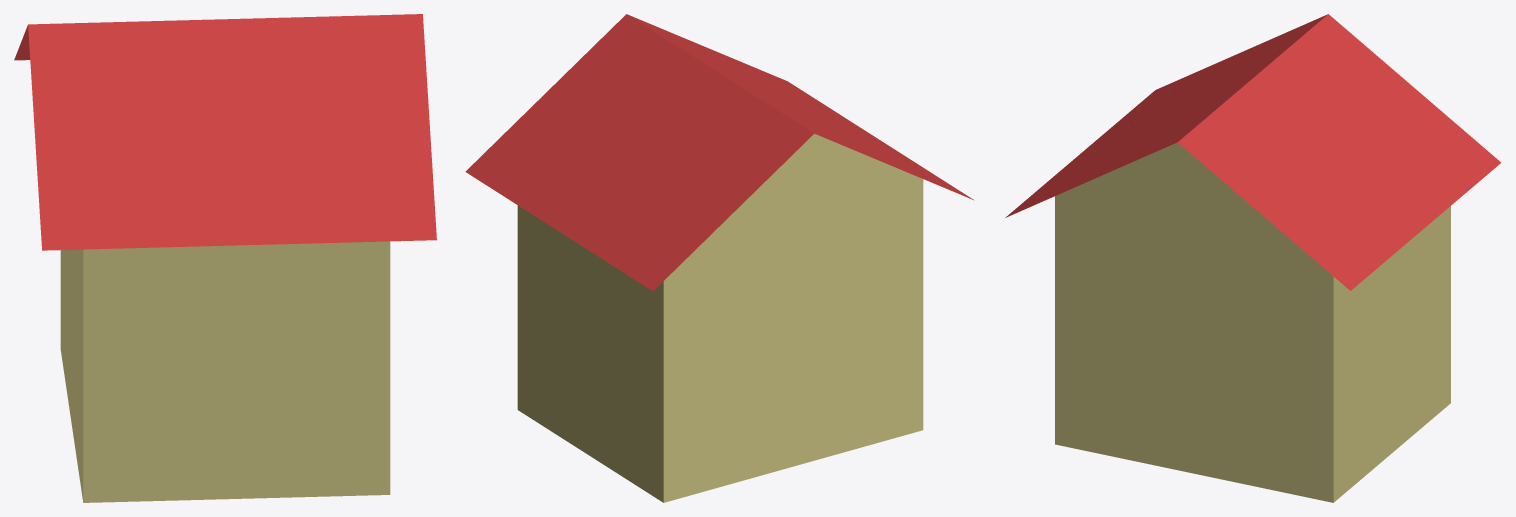
3 views of the same model, side by side, from view 1: azimuth 30°, elevation 25°; view 2: azimuth 150°, elevation 25°; view 3: azimuth 270°, elevation 25° (orthographic). The views are drawn at different scales.
Bounding box in the file's own units: 9.45 × 9.88 × 7.58.
